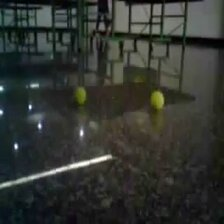tennis: (149, 90, 164, 112), (74, 86, 86, 107)
